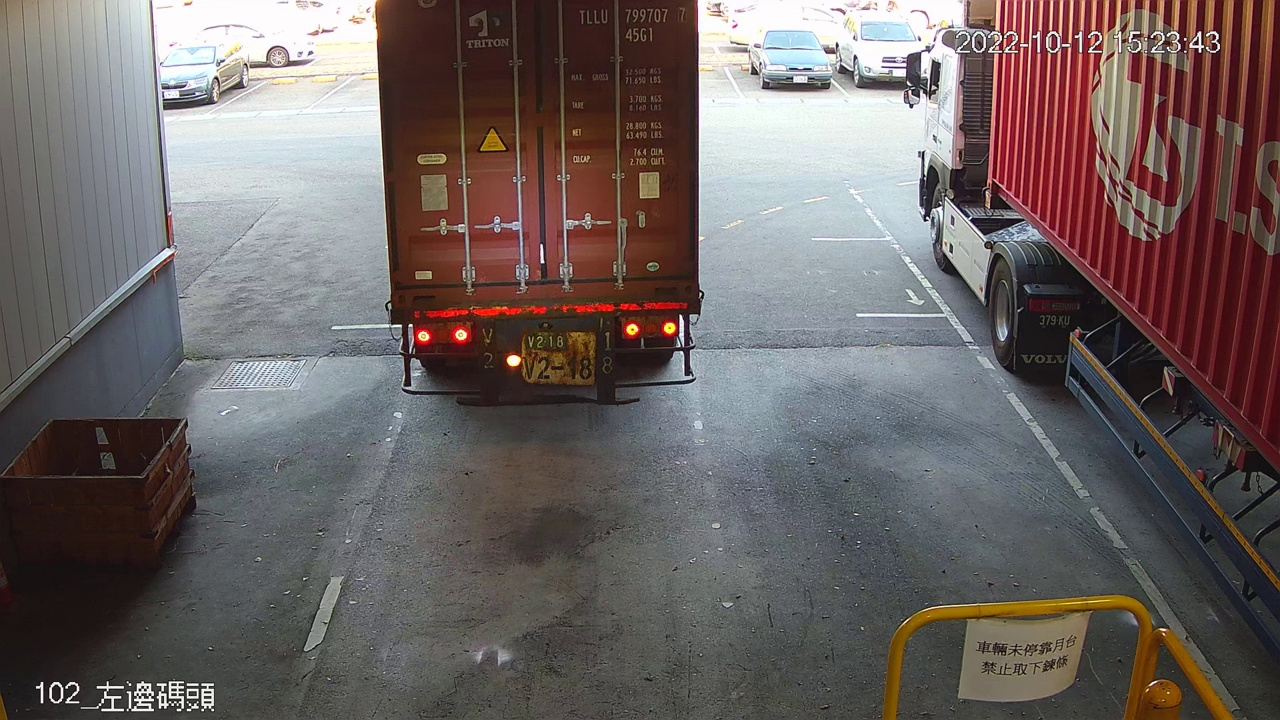container: (571, 2, 690, 49)
